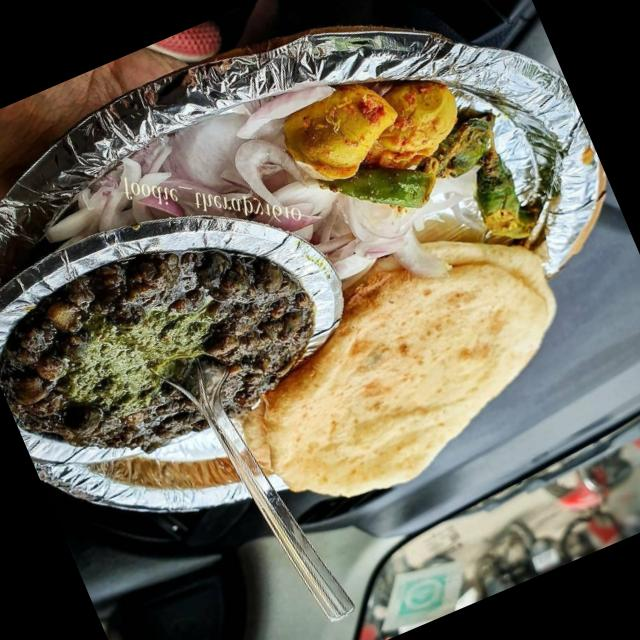Bhatura: (198, 197, 598, 532)
